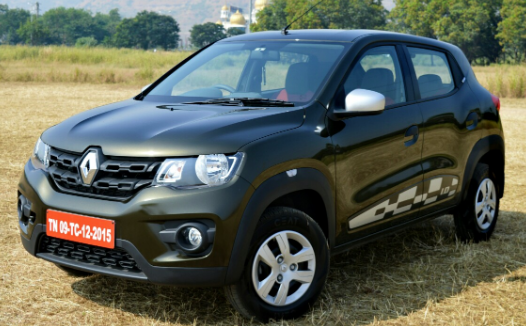car: (16, 28, 508, 323)
